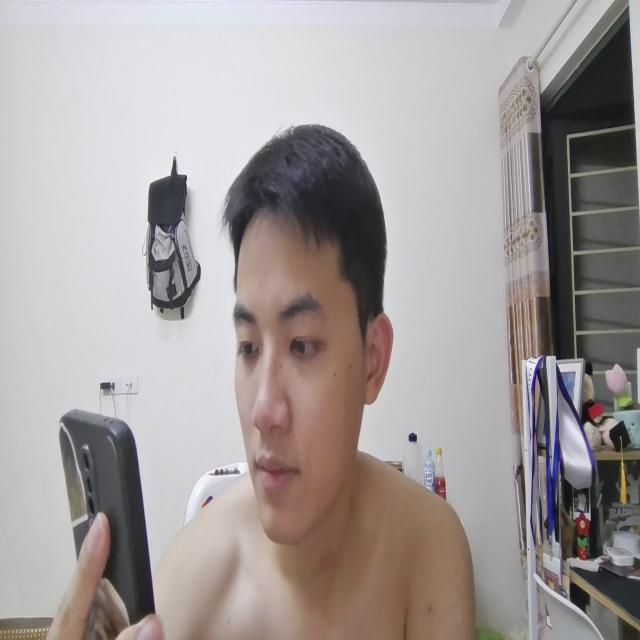phone: (56, 392, 155, 640)
student: (151, 117, 475, 640)
